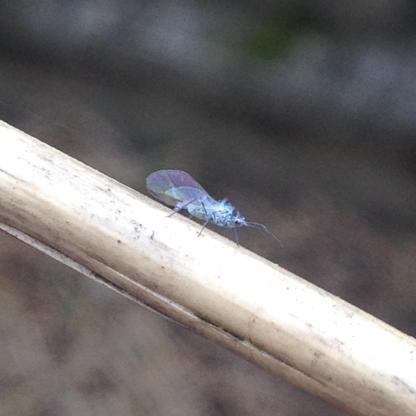aphid: (134, 164, 279, 261)
